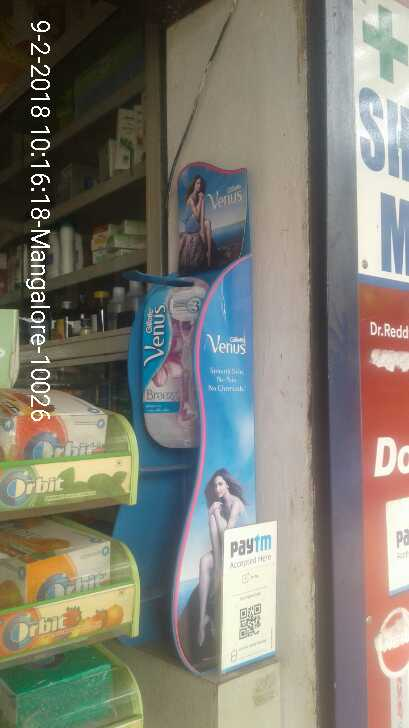beauty: (135, 281, 207, 440)
